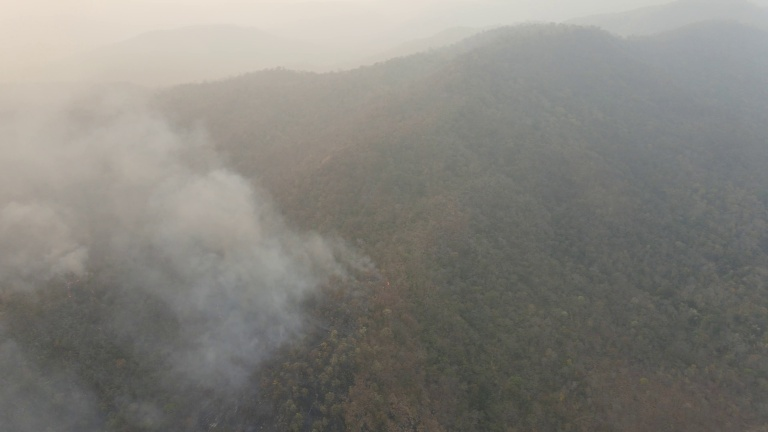smoke: (2, 58, 388, 430)
